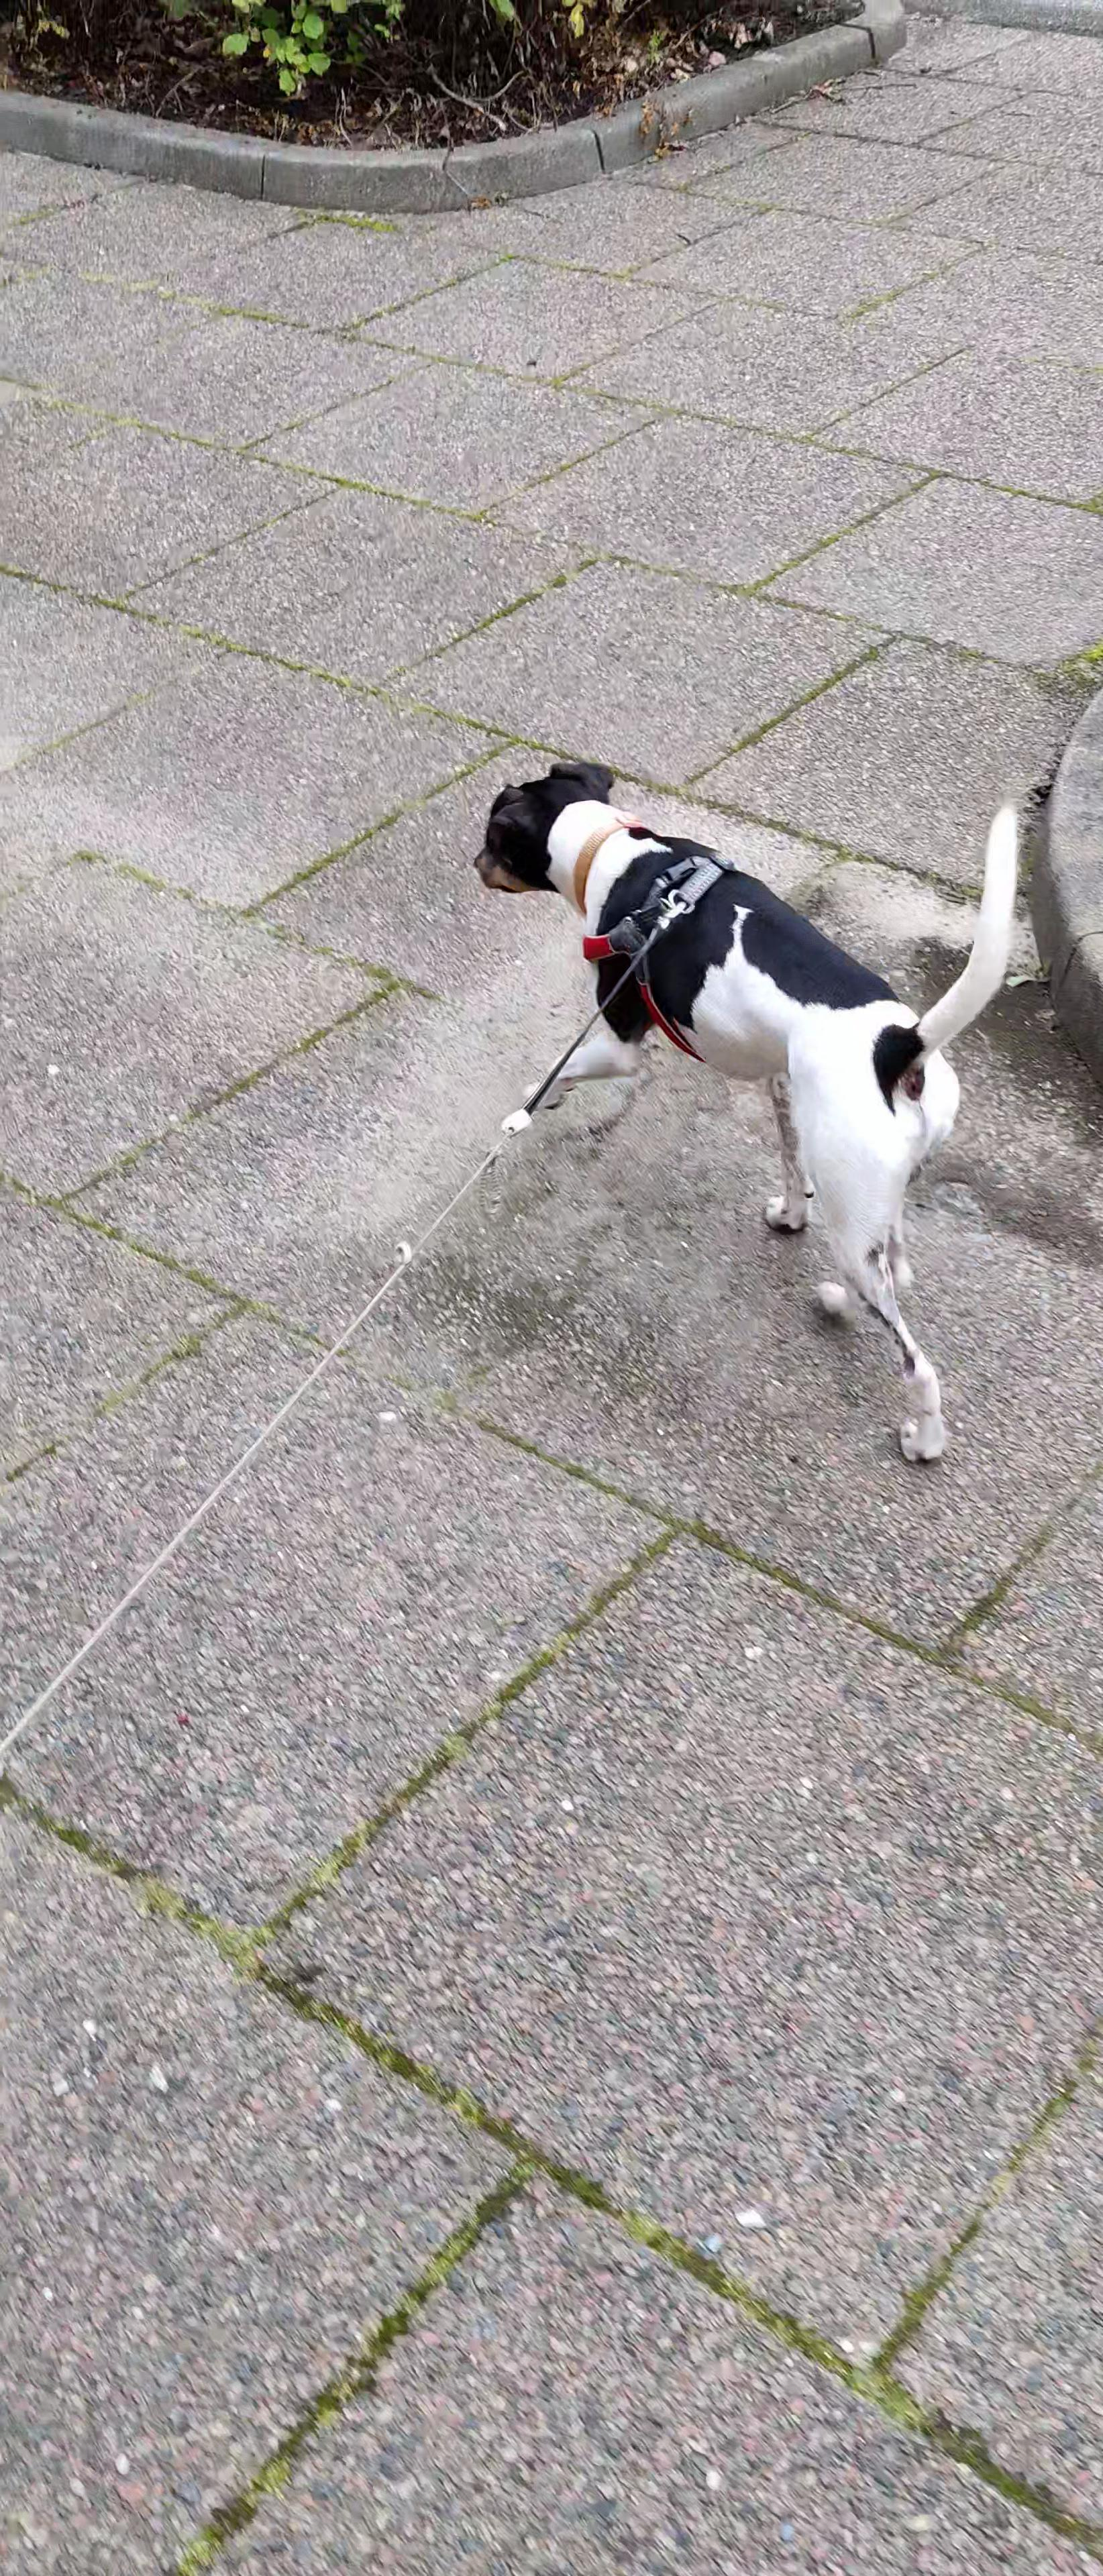Dog: (447, 728, 1034, 1513)
